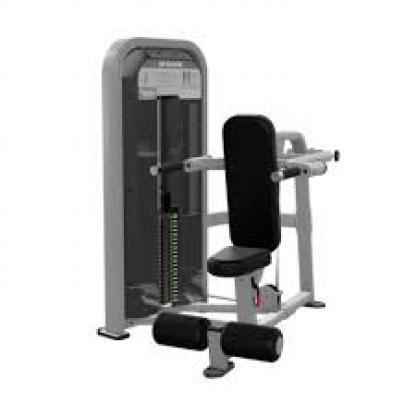seated dip machine: (98, 115, 342, 382)
